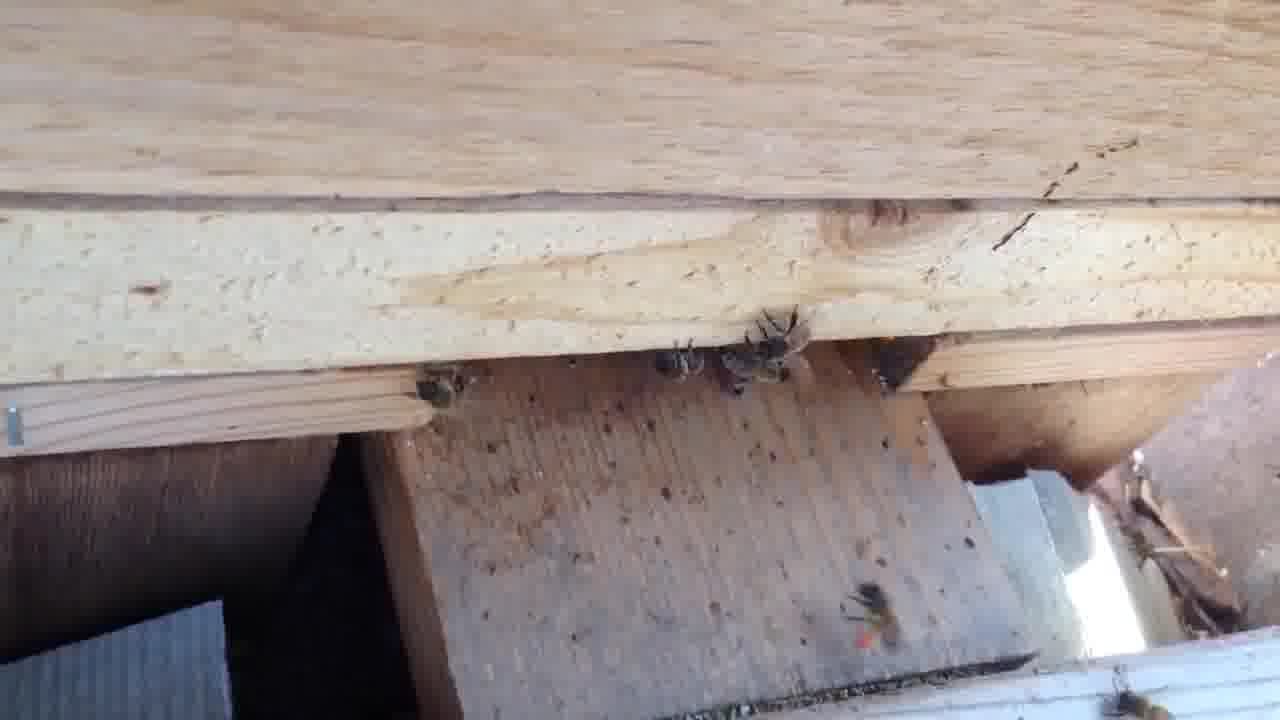pollen: (846, 579, 910, 658)
